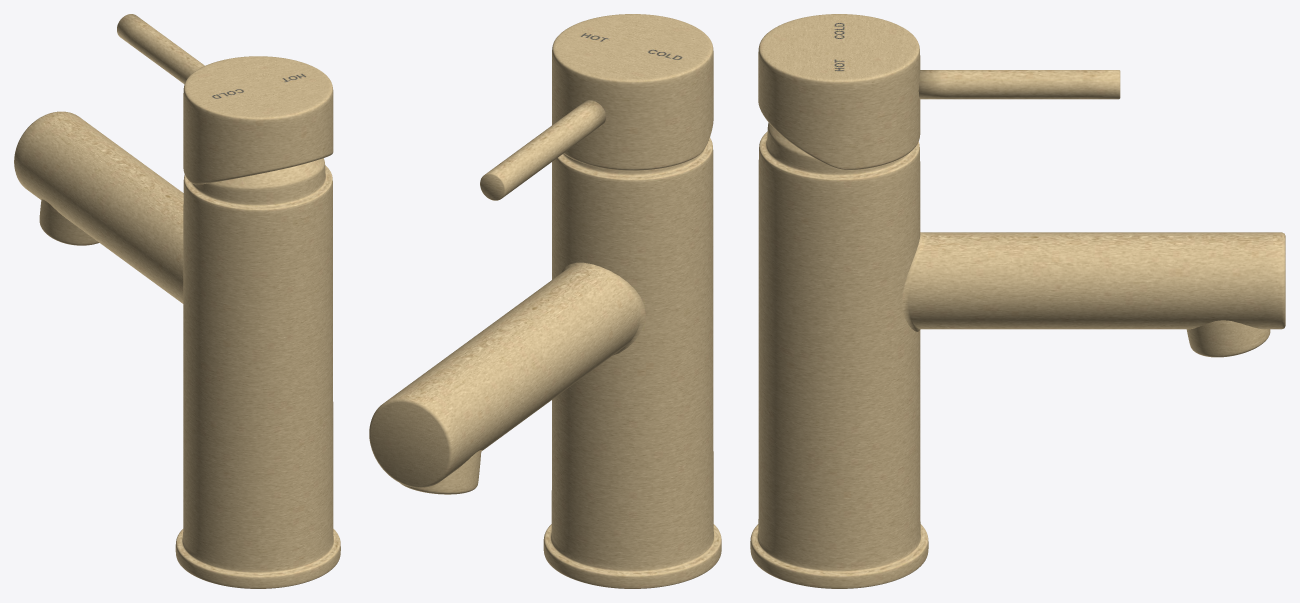
The model's file is tapware.glb.
3 views of the same model, side by side, from view 1: azimuth 30°, elevation 25°; view 2: azimuth 150°, elevation 25°; view 3: azimuth 270°, elevation 25° (orthographic). The views are drawn at different scales.
Parts seen in each view (by area): view 1: Cylinder; view 2: Cylinder; view 3: Cylinder.
Part boxes in pixels (bbox=[...]): Cylinder: bbox=[14, 14, 340, 588]; Cylinder: bbox=[369, 14, 721, 588]; Cylinder: bbox=[750, 14, 1285, 588].
Bounding box in the file's own units: 0.0493 × 0.1544 × 0.1481.
Materials: 1 (1 with a texture image).
